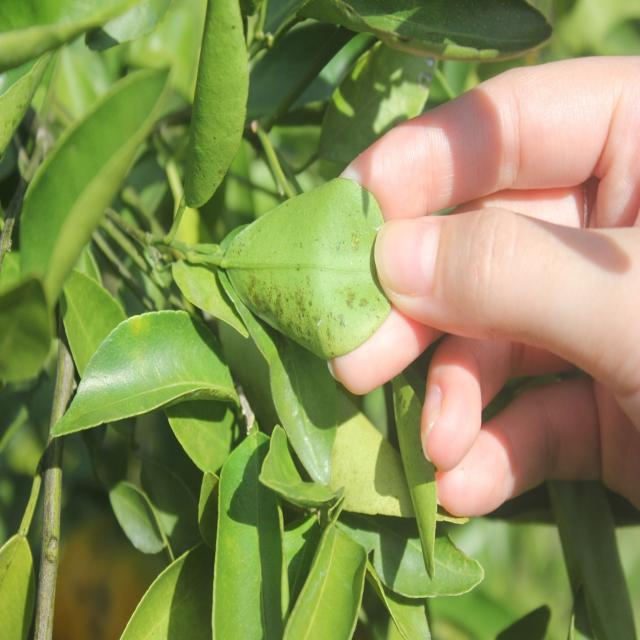melanose: (216, 169, 391, 351)
